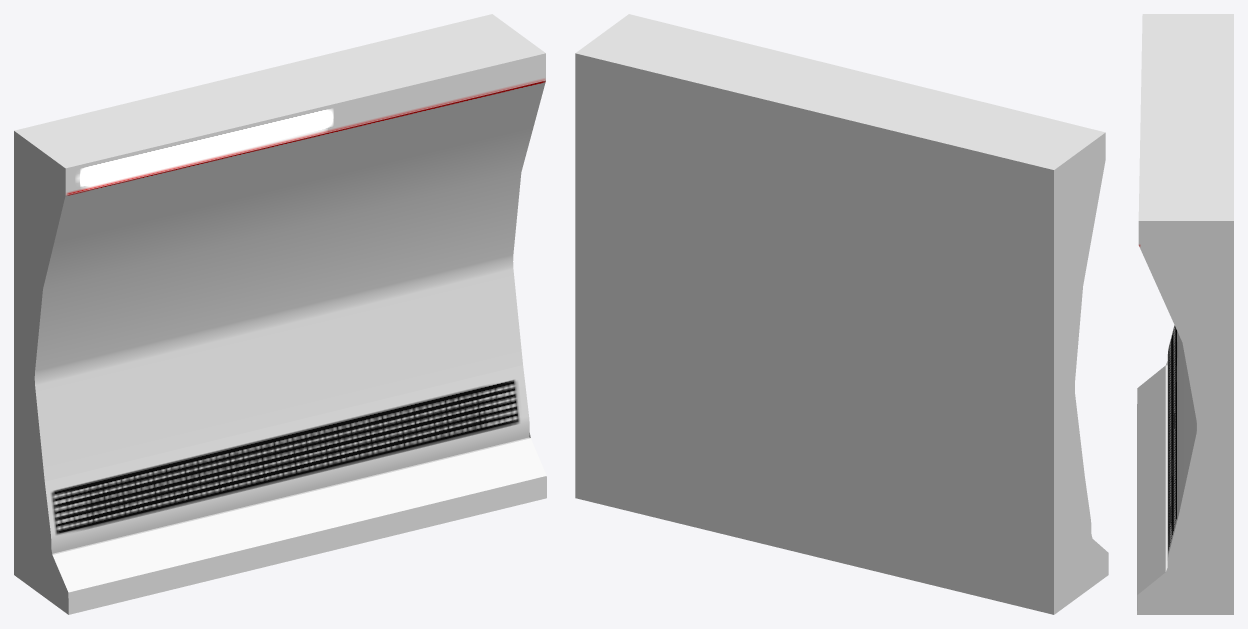
Rendered from Lv2_HandOfDominion_Wall.fbx.
3 views of the same model, side by side, from view 1: azimuth 30°, elevation 25°; view 2: azimuth 150°, elevation 25°; view 3: azimuth 270°, elevation 25° (orthographic). The views are drawn at different scales.
Visible parts, largest first — view 1: Wall; view 2: Wall; view 3: Wall.
Boxes of the visible parts, bbox=[...] form: Wall: bbox=[14, 14, 546, 614]; Wall: bbox=[575, 14, 1108, 614]; Wall: bbox=[1137, 14, 1233, 614].
Bounding box in the file's own units: 515 × 457 × 102.
